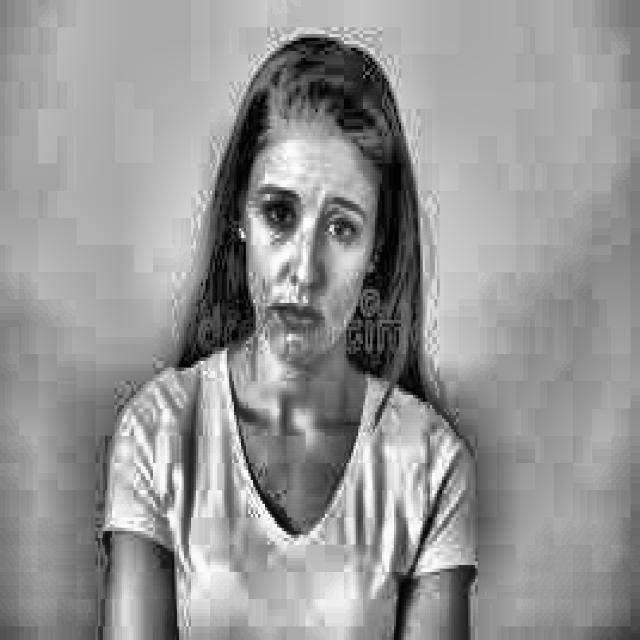sad: (200, 16, 432, 438)
